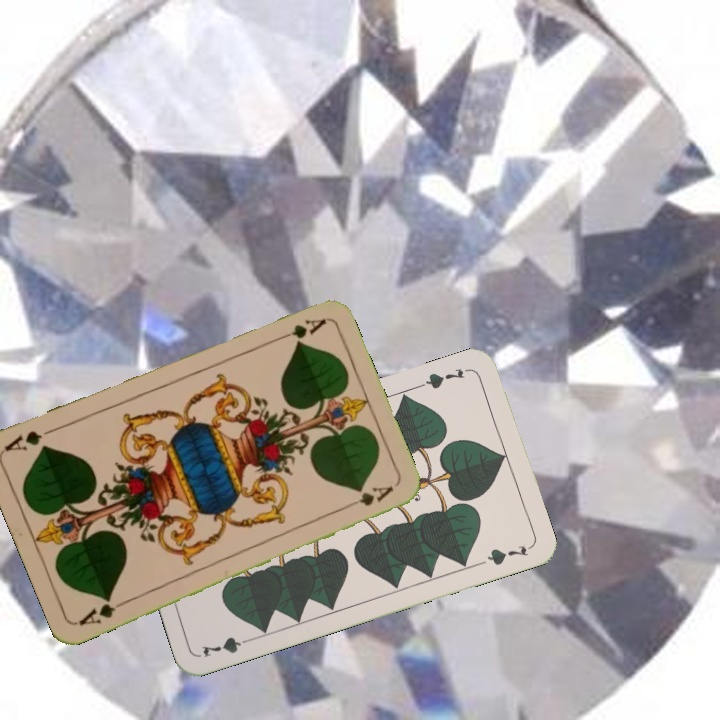G7: (197, 633, 256, 660), (416, 364, 467, 392)
GA: (74, 593, 130, 629), (270, 315, 328, 344)
